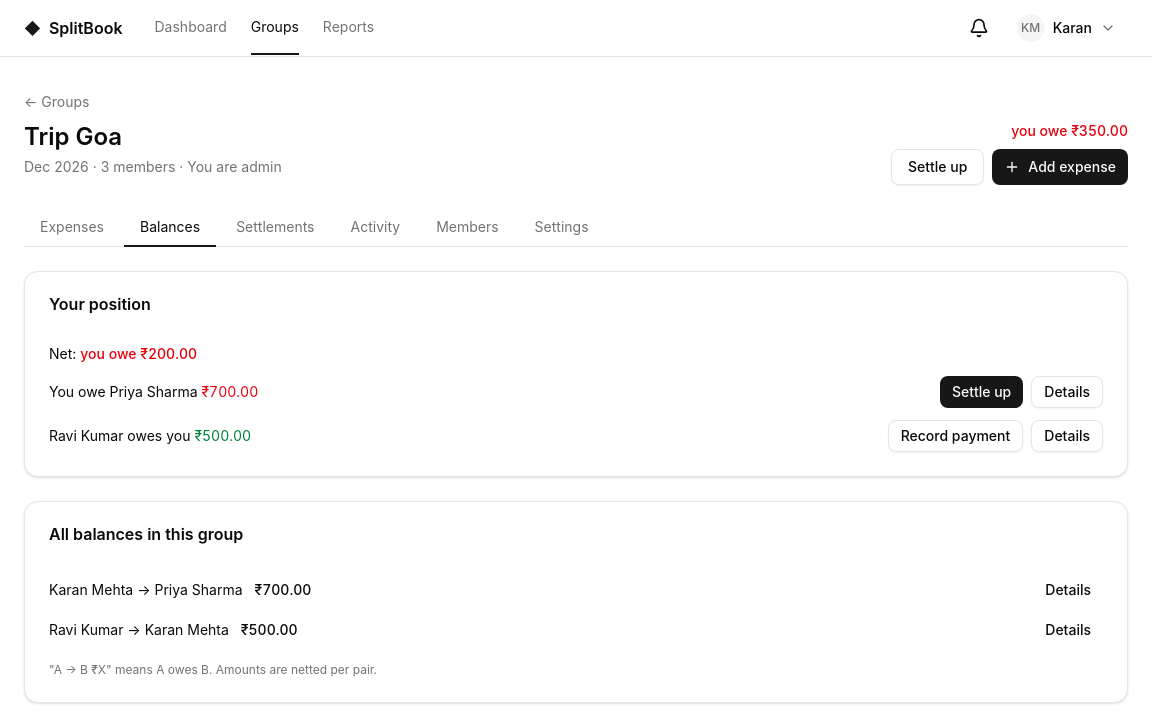
Test: §10–§11 balances and settle up › breakdown dialog lists records and the net
Click the 1st button "Details": (1067, 392) top-left (1031, 376), bottom-right (1103, 408)
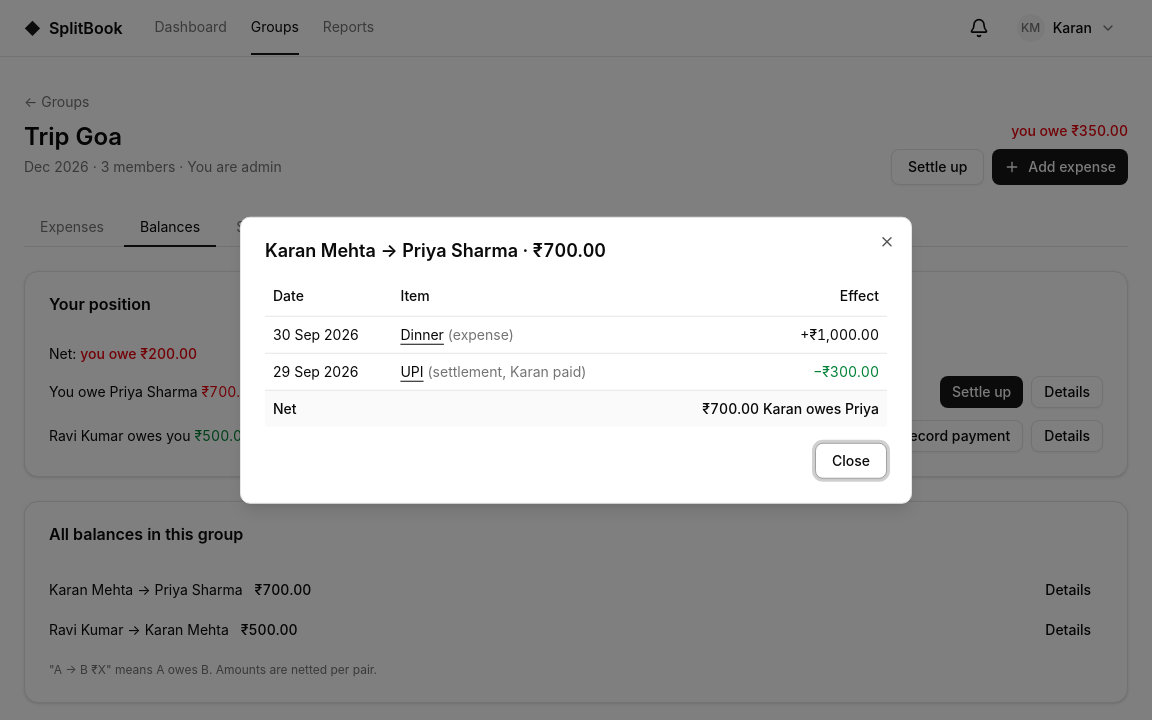
Now the link "Dinner" is shown, box top-left (400, 325), bottom-right (444, 342)
Now the text "₹700.00 Karan owes Priya" is shown, box top-left (646, 390), bottom-right (887, 426)
